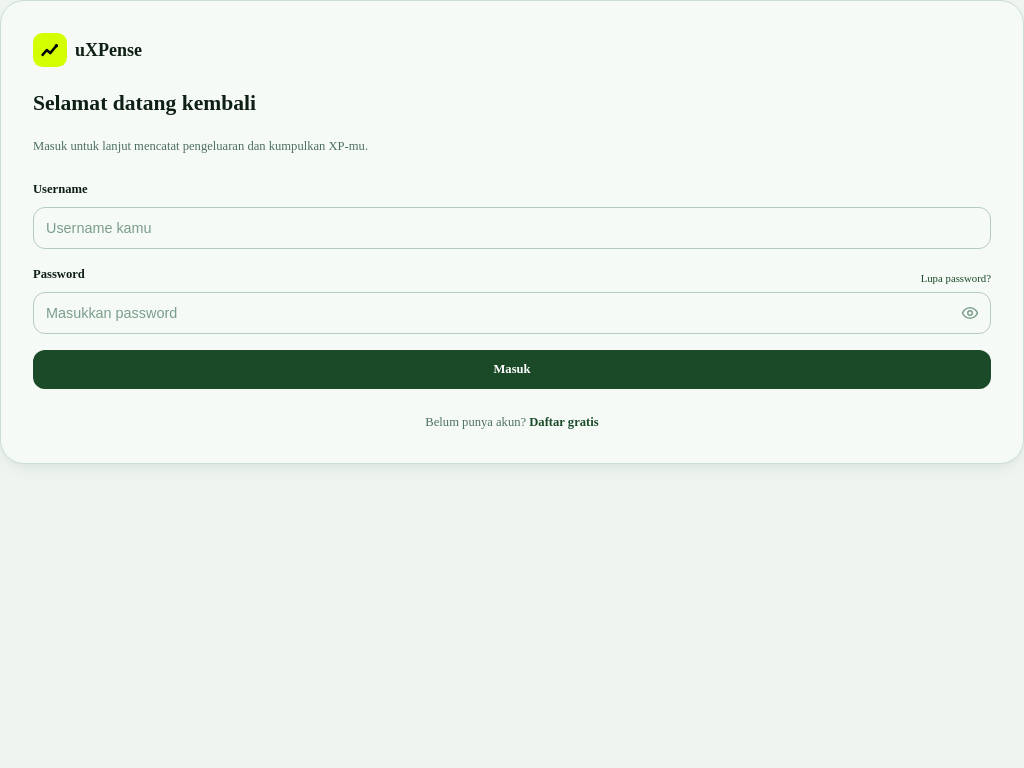
LoginForm › shows the success modal after a successful login
Step 1. Type "john" into the field labelled "Username" → coordinates (512, 228), box [33,207,991,249]
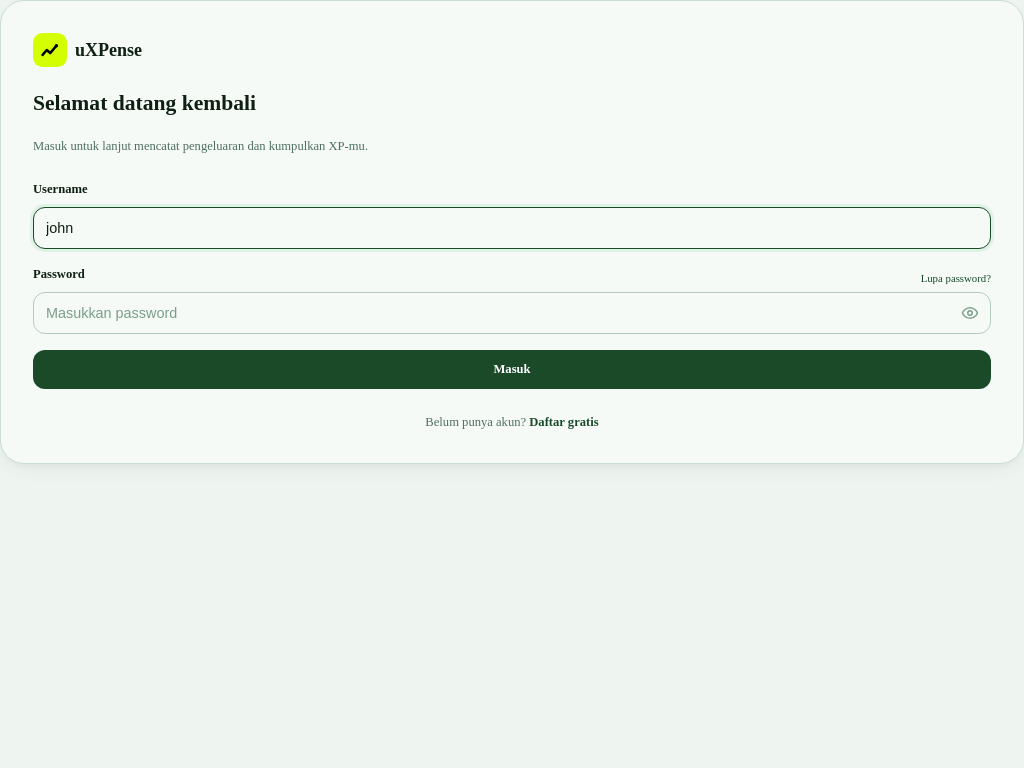
Step 2. Type "secret" into the password field labelled "Password" → coordinates (512, 313), box [33,292,991,334]
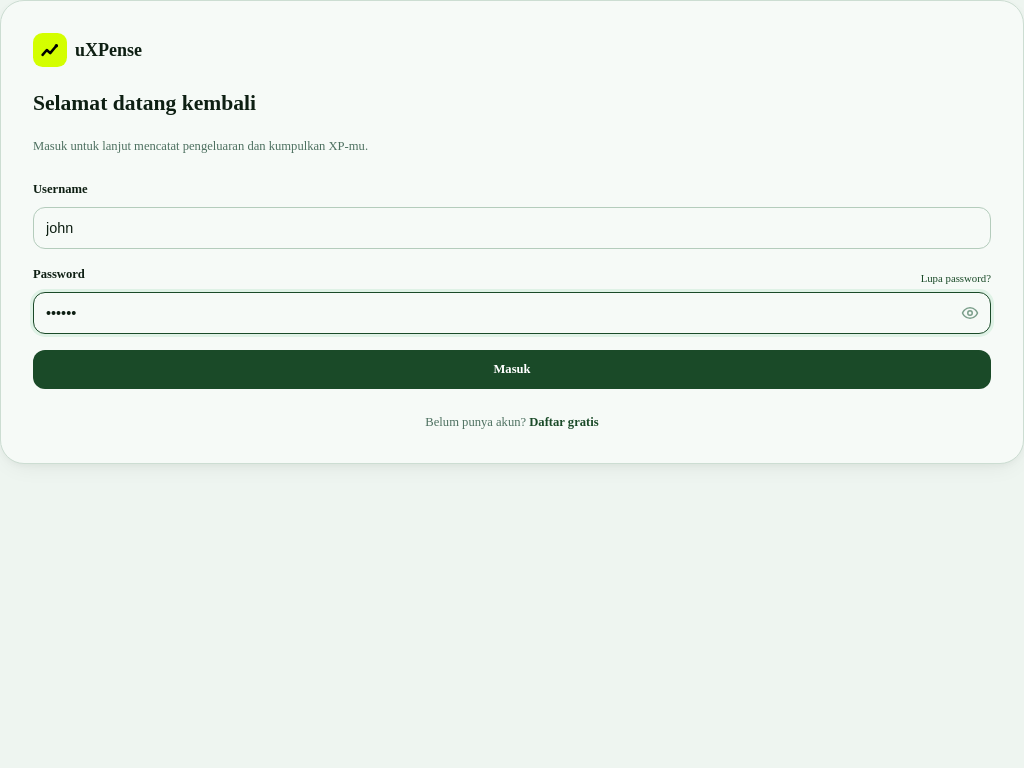
Step 3. Click the button "Masuk" → coordinates (512, 369), box [33,350,991,389]
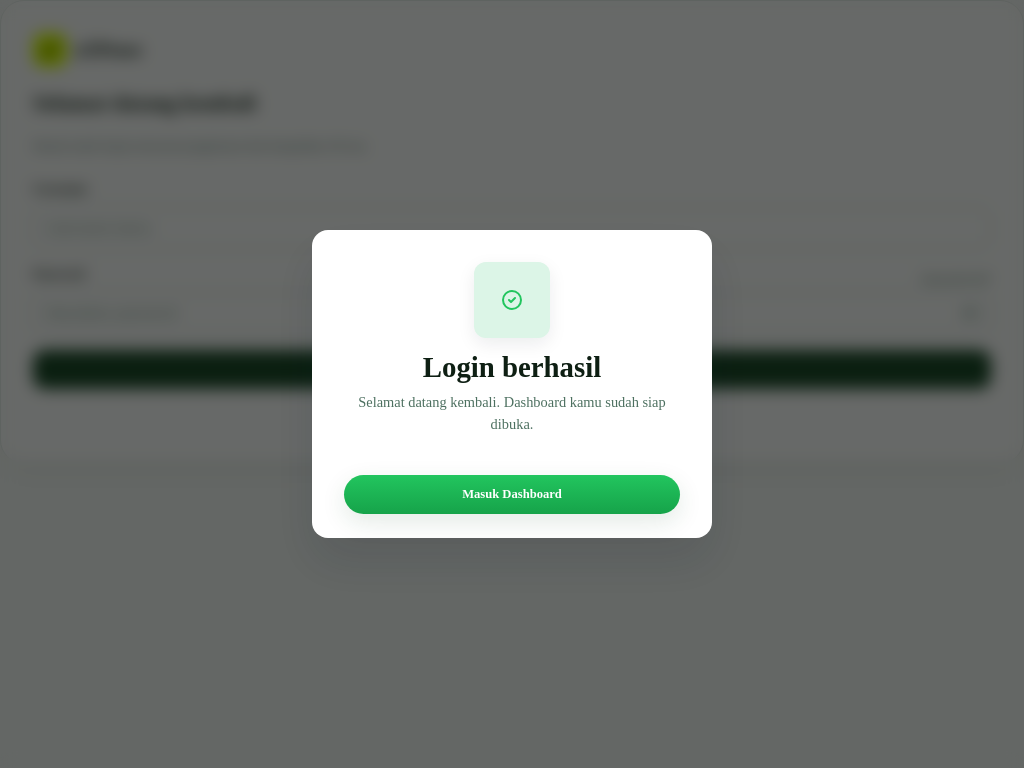
expect the heading "Login berhasil" is shown: met, box [423,351,601,383]
expect the button "Masuk Dashboard" is shown: met, box [344,475,680,514]
